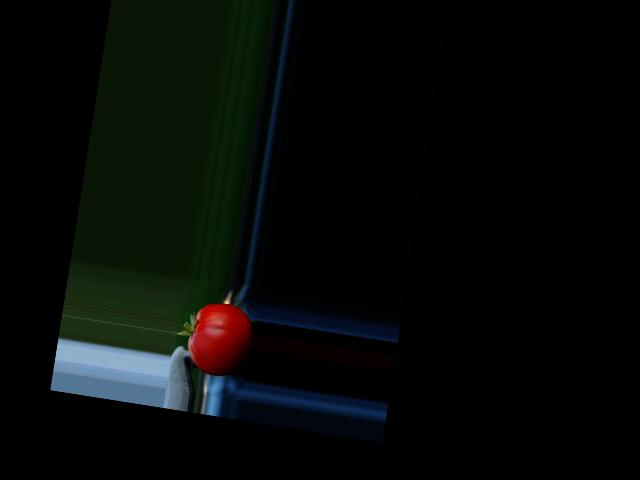tomato: (184, 298, 257, 380)
